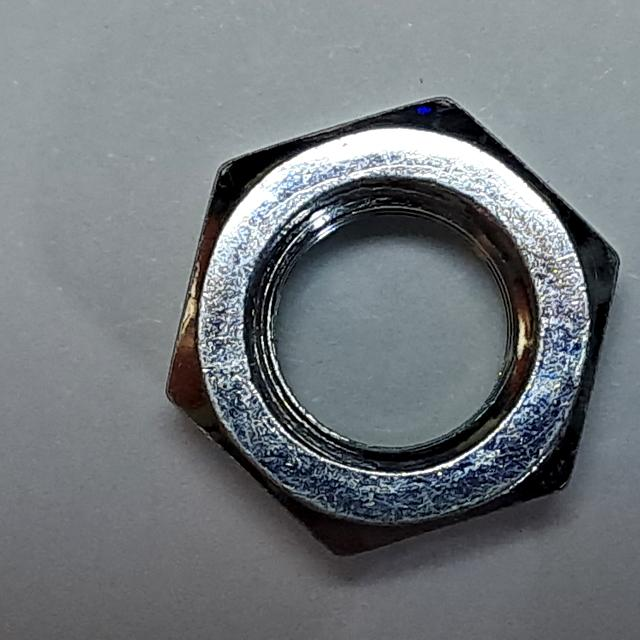Excellent: (141, 77, 636, 576)
